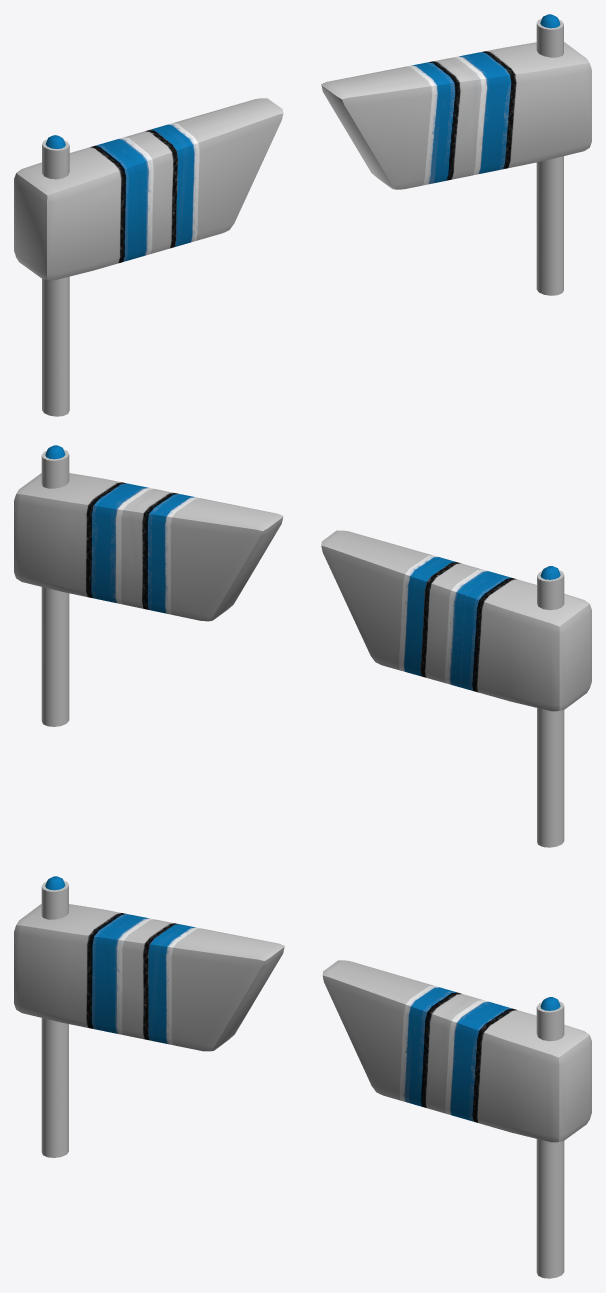
Rendered from VallaHugo2.fbx.
3 views of the same model, one above another, from view 1: azimuth 30°, elevation 25°; view 2: azimuth 150°, elevation 25°; view 3: azimuth 330°, elevation 25° (orthographic).
Parts seen in each view (by area): view 1: Barrera2; view 2: Barrera2; view 3: Barrera2.
Boxes of the visible parts, x1,y1,x2,y2 form: Barrera2: [14, 14, 591, 416]; Barrera2: [14, 445, 591, 847]; Barrera2: [14, 876, 591, 1278].
Size of the model in its own units: 333 by 158 by 38.21.
